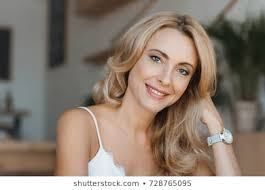white_female: (116, 27, 218, 108)
